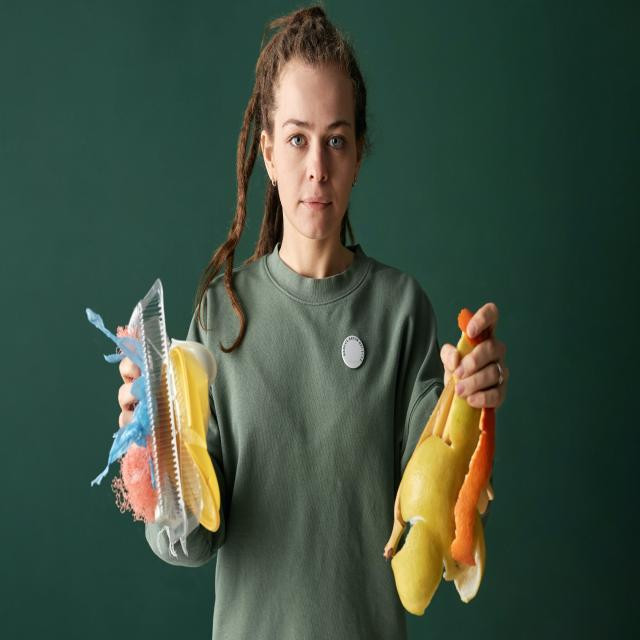plastic: (136, 337, 212, 505)
